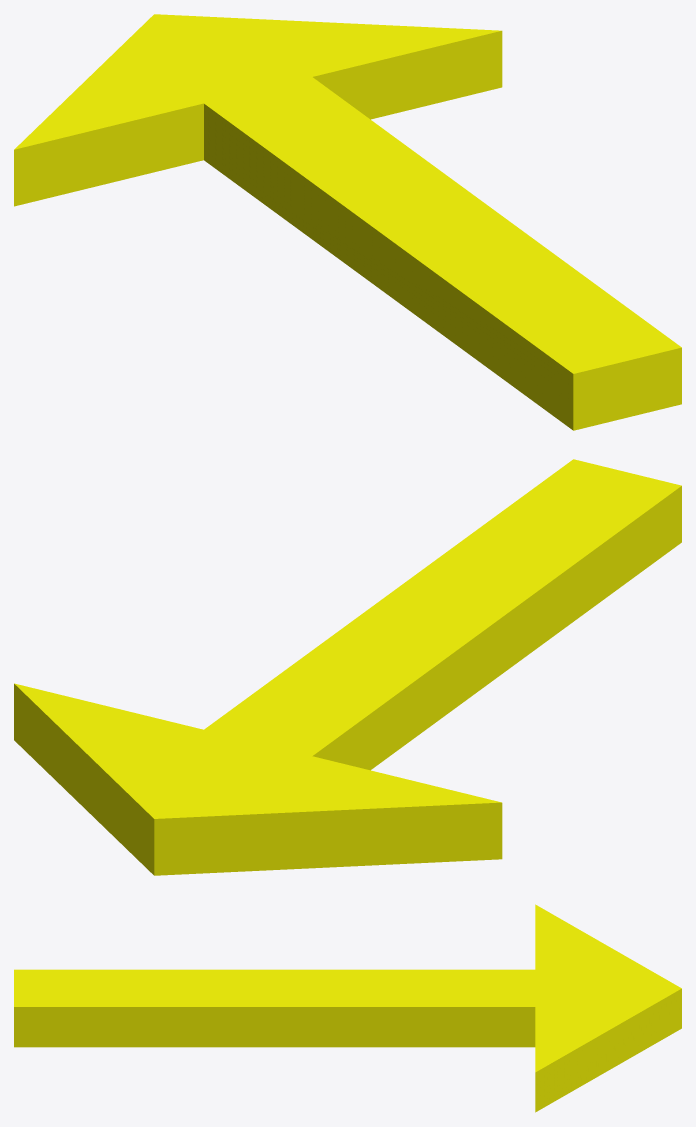
Rendered from 黄色箭头指示.FBX.
3 renders of one model, top to bottom at view 1: azimuth 30°, elevation 25°; view 2: azimuth 150°, elevation 25°; view 3: azimuth 270°, elevation 25°, orthographic. The views are drawn at different scales.
Visible parts, largest first — view 1: *SOL461; view 2: *SOL461; view 3: *SOL461.
Part boxes in pixels (x1,y1,x2,y2): *SOL461: [14, 14, 681, 430]; *SOL461: [14, 459, 681, 875]; *SOL461: [14, 904, 681, 1112].
Size of the model in its own units: 1.77 by 0.1969 by 2.98.
